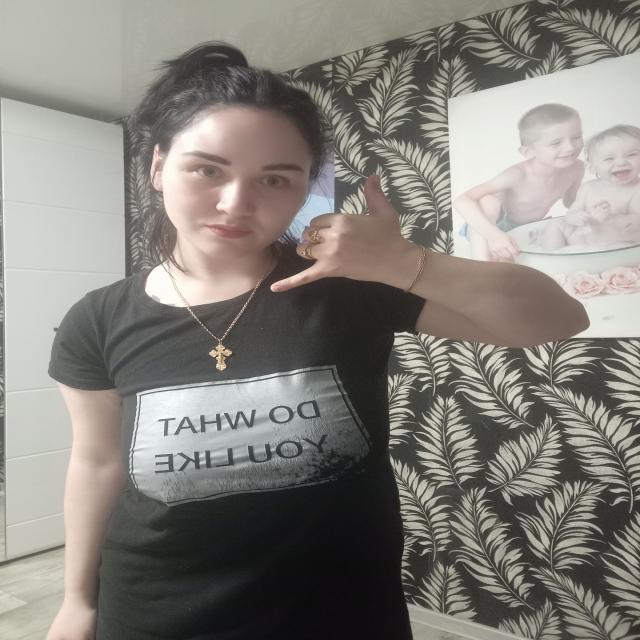call: (263, 170, 417, 298)
